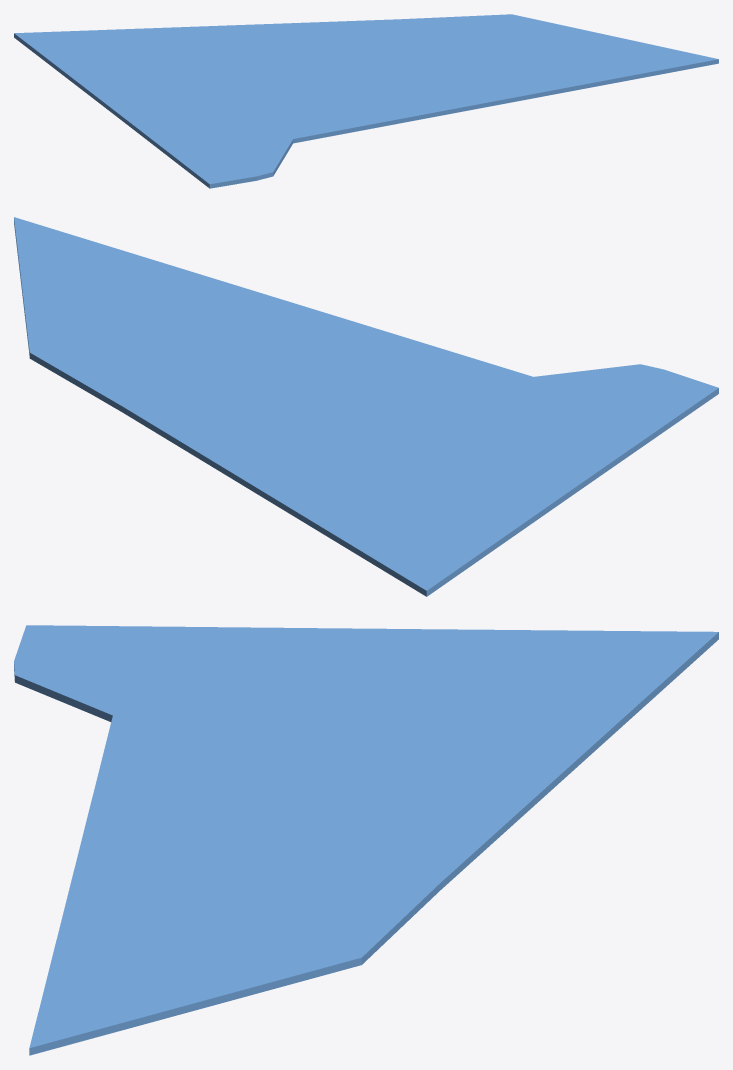
3 renders of one model, top to bottom at view 1: azimuth 30°, elevation 25°; view 2: azimuth 150°, elevation 25°; view 3: azimuth 270°, elevation 25°, orthographic. The views are drawn at different scales.
Size of the model in its own units: 370 by 3.05 by 260.
